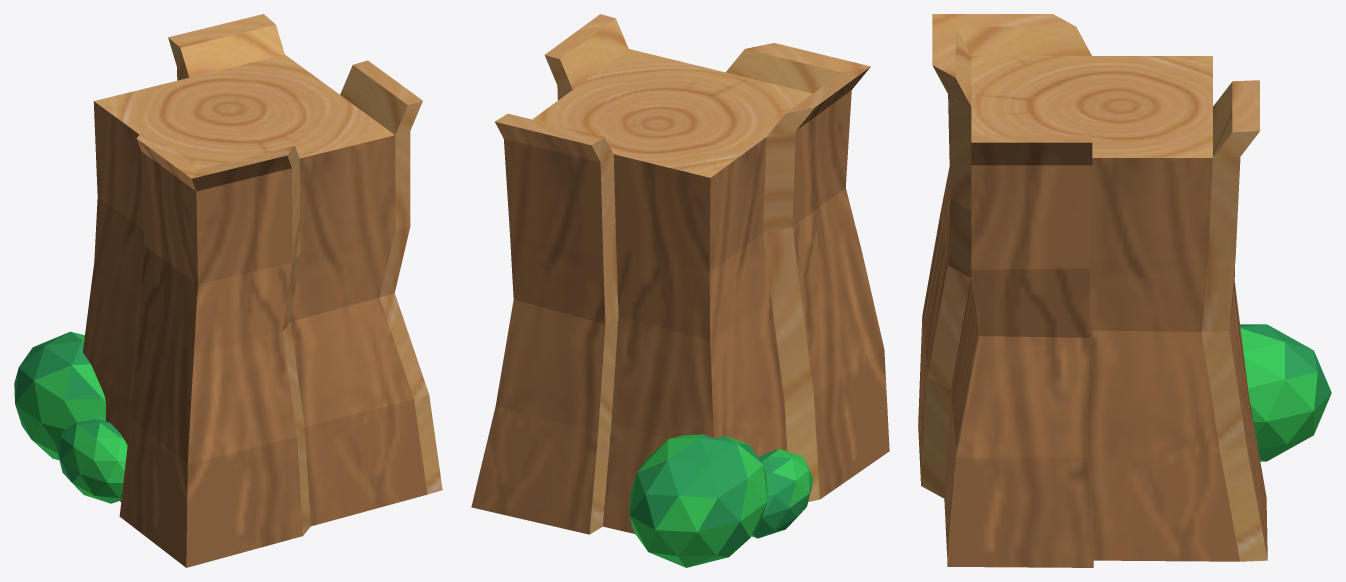
The model's file is BaseTree.fbx.
The picture shows the model from 3 angles, left to right: view 1: azimuth 30°, elevation 25°; view 2: azimuth 150°, elevation 25°; view 3: azimuth 270°, elevation 25°; orthographic projection. The views are drawn at different scales.
Parts seen in each view (by area): view 1: TreeBase; view 2: TreeBase; view 3: TreeBase.
Boxes of the visible parts, x1,y1,x2,y2 form: TreeBase: [14, 14, 442, 567]; TreeBase: [471, 14, 889, 567]; TreeBase: [918, 14, 1331, 567].
Bounding box in the file's own units: 296 × 395 × 343.
1 material, 1 textured.
